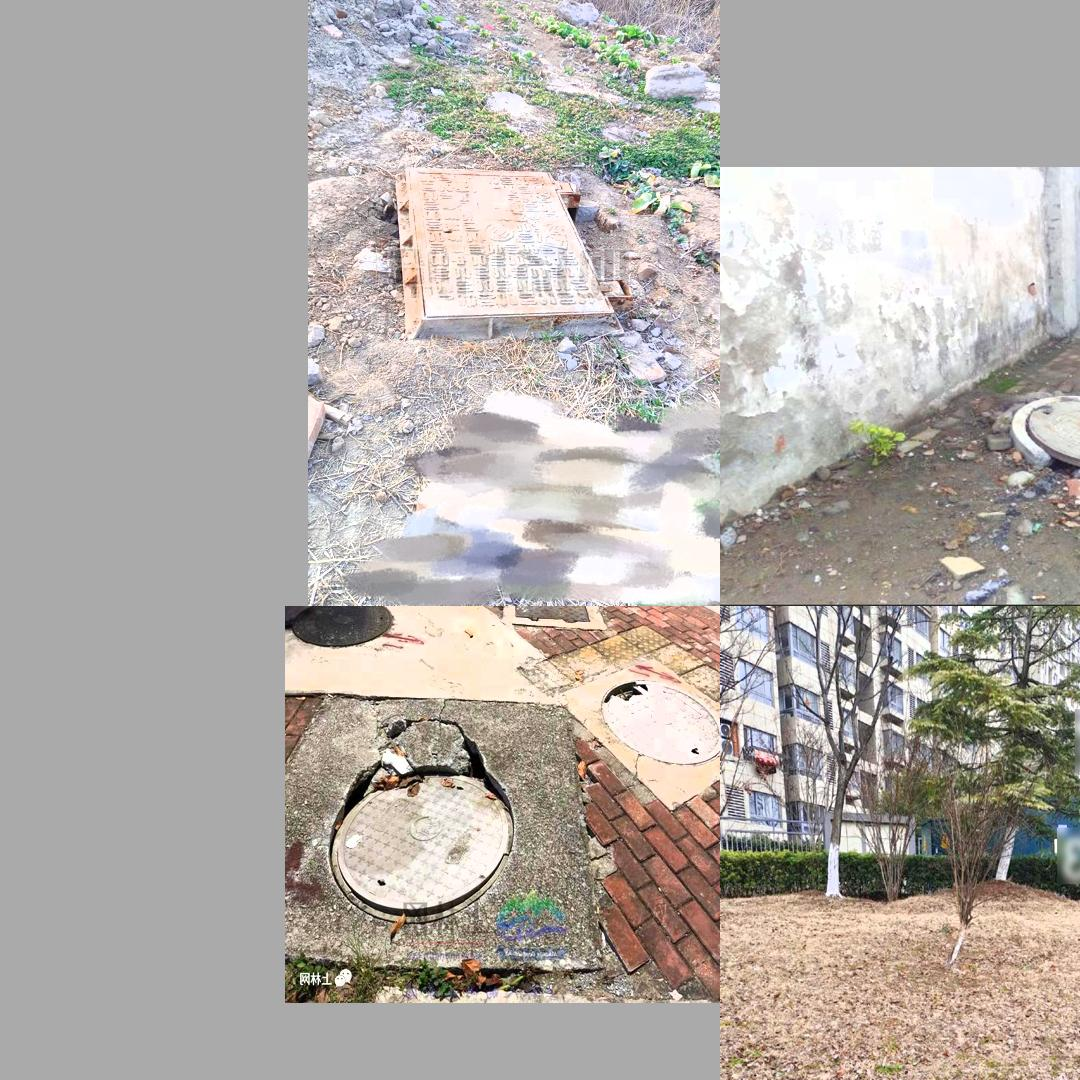circle: (287, 685, 609, 972), (387, 162, 633, 343), (1008, 393, 1080, 493)
